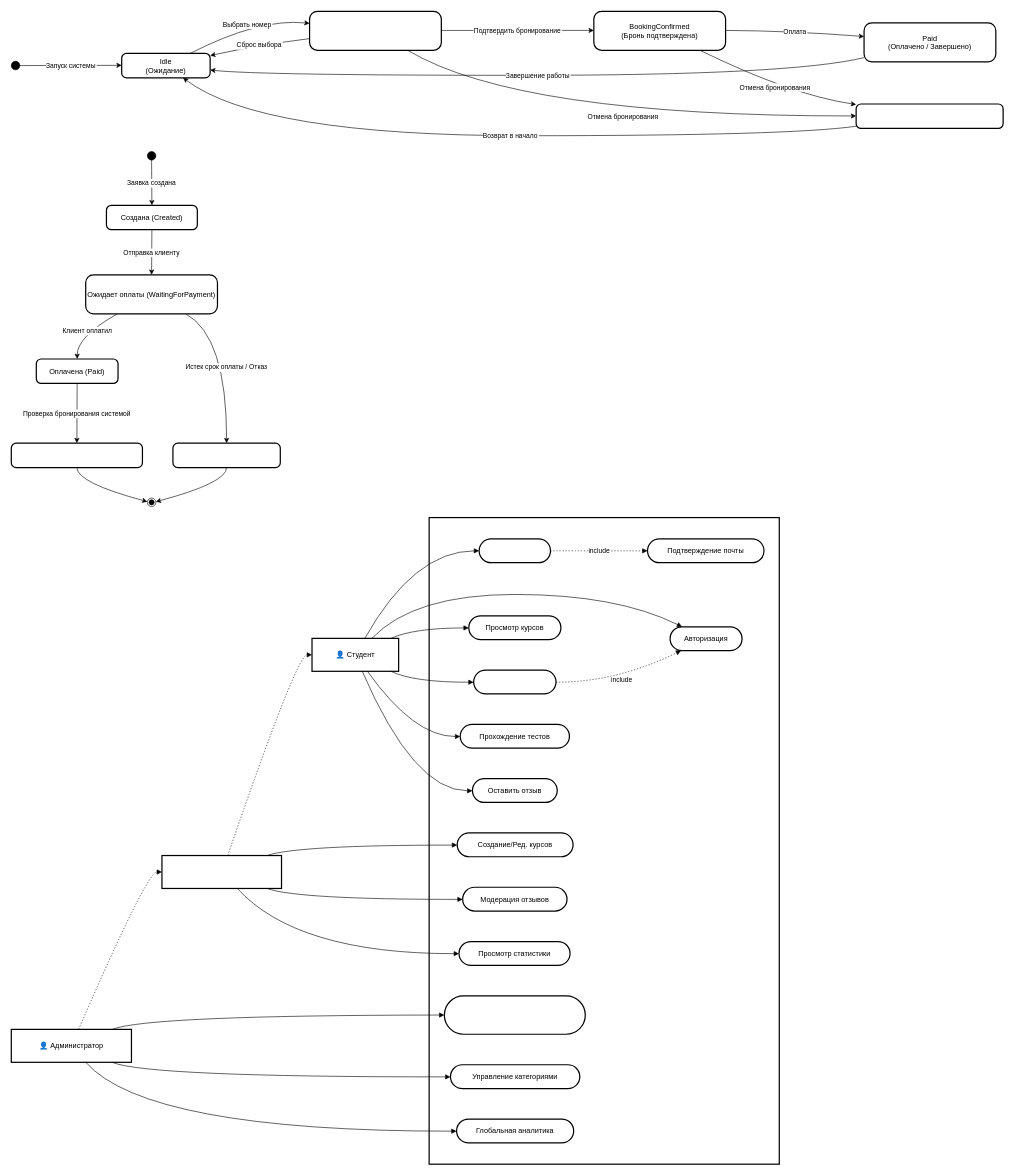
This 1014x1175 diagram has some shape labels left out. The shapes that lost their labels are listed below. From the top down, each one's box as (x1, y1, x2, y2) in pixels, then its label:
(309, 10, 442, 51): RoomSelected (Номер выбран)
(855, 103, 1003, 129): BookingCancelled (Отменено)
(10, 442, 143, 468): Подтверждена (Confirmed)
(172, 442, 281, 468): Отменена (Cancelled)
(478, 538, 551, 563): Регистрация
(473, 669, 556, 694): Запись на курс
(428, 517, 780, 1164): Система Онлайн-Курсов
(161, 855, 282, 889): 👤 Преподаватель
(443, 995, 586, 1035): Управление пользователями
